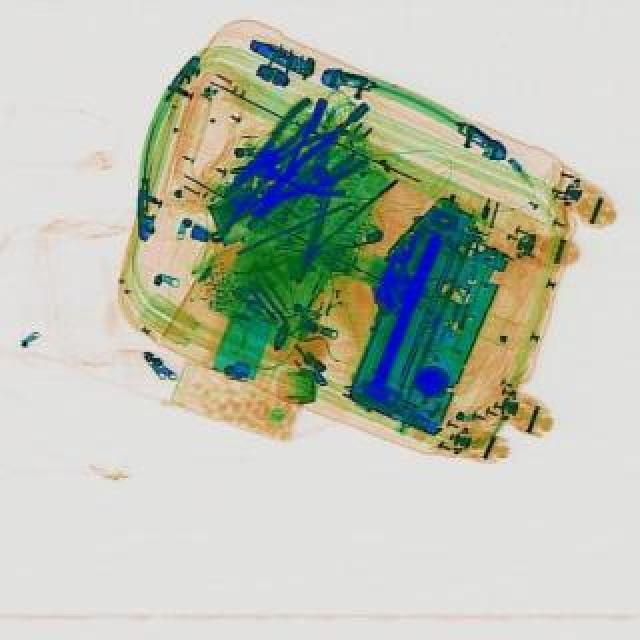scissors: (204, 190, 252, 246)
wrench: (242, 124, 368, 232), (212, 92, 328, 204)
